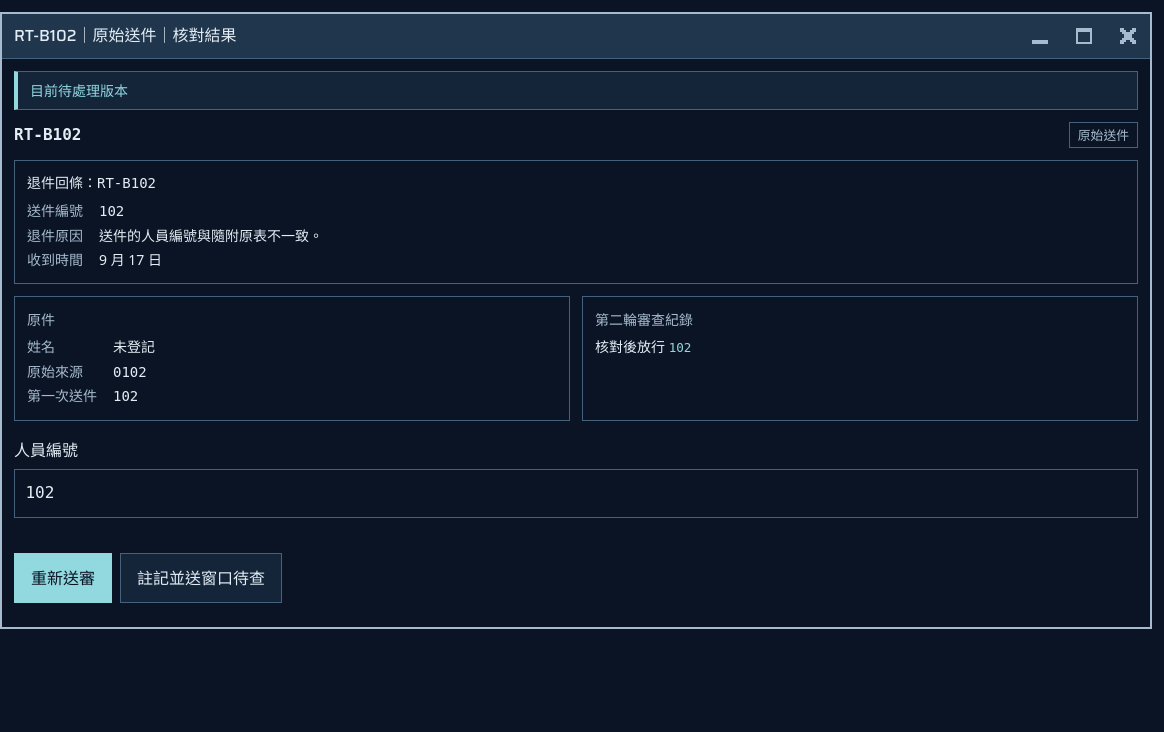
Scenario: MailAttachmentWindowsComponent（R12 版本鎖定附件） › 送窗口待查：附件唯讀、顯示「待窗口回覆」；之後不再寄出新郵件
The image size is (1164, 732).
Click the button "註記並送窗口待查" at (201, 578), box [120,553,282,603]
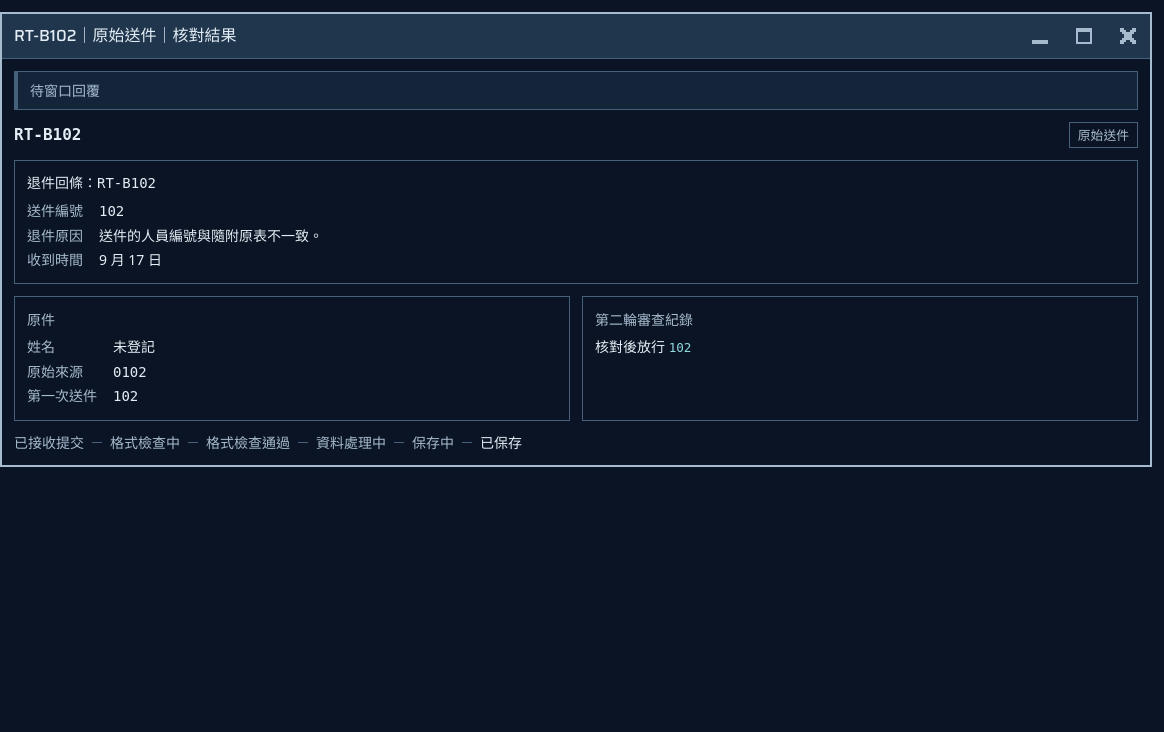
Now the text "待窗口回覆" is shown, box [14,71,1138,110]
